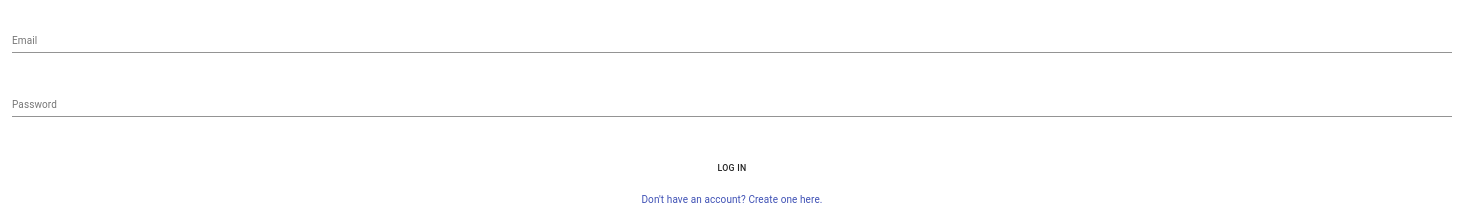
Test: <LoginForm /> › should show the proper errors when invalid values are entered
Type "invalid email" into the field labelled "Email" at (732, 40), box [12,28,1452,53]
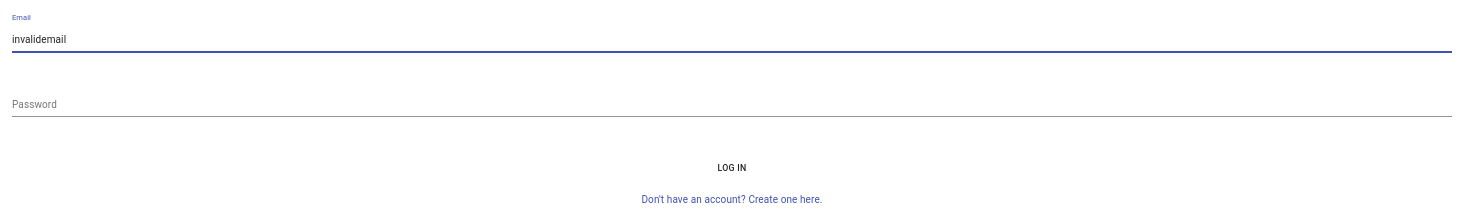
Type "12345" into the password field labelled "Password" at (732, 104), box [12,92,1452,117]
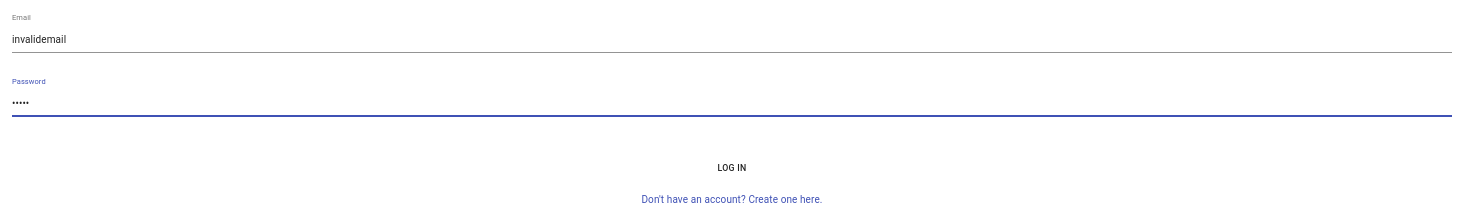
Click the button at (732, 168), box [12,155,1452,182]
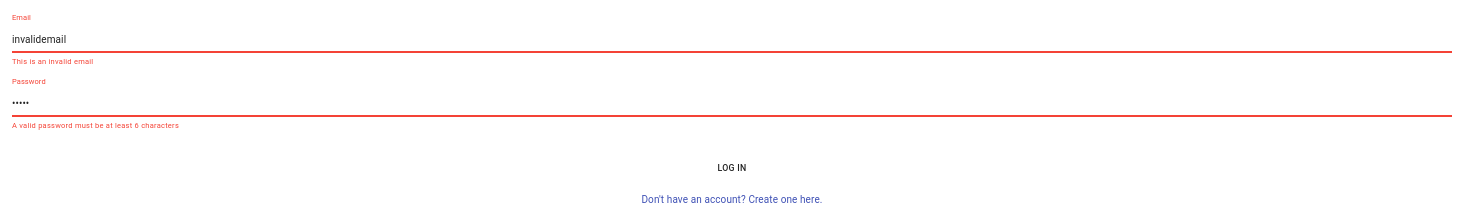
expect the text "This is an invalid email" is shown: met, box [12,57,94,66]
expect the text "A valid password must be at least 6 characters" is shown: met, box [12,121,179,130]
